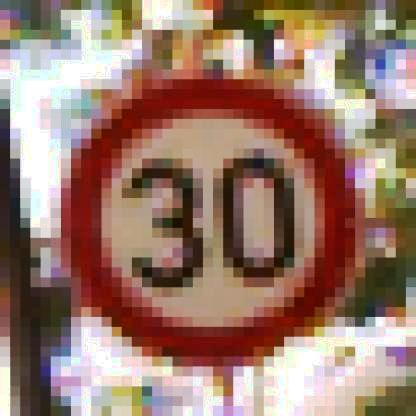Speed Limit -30-: (59, 78, 358, 361)
